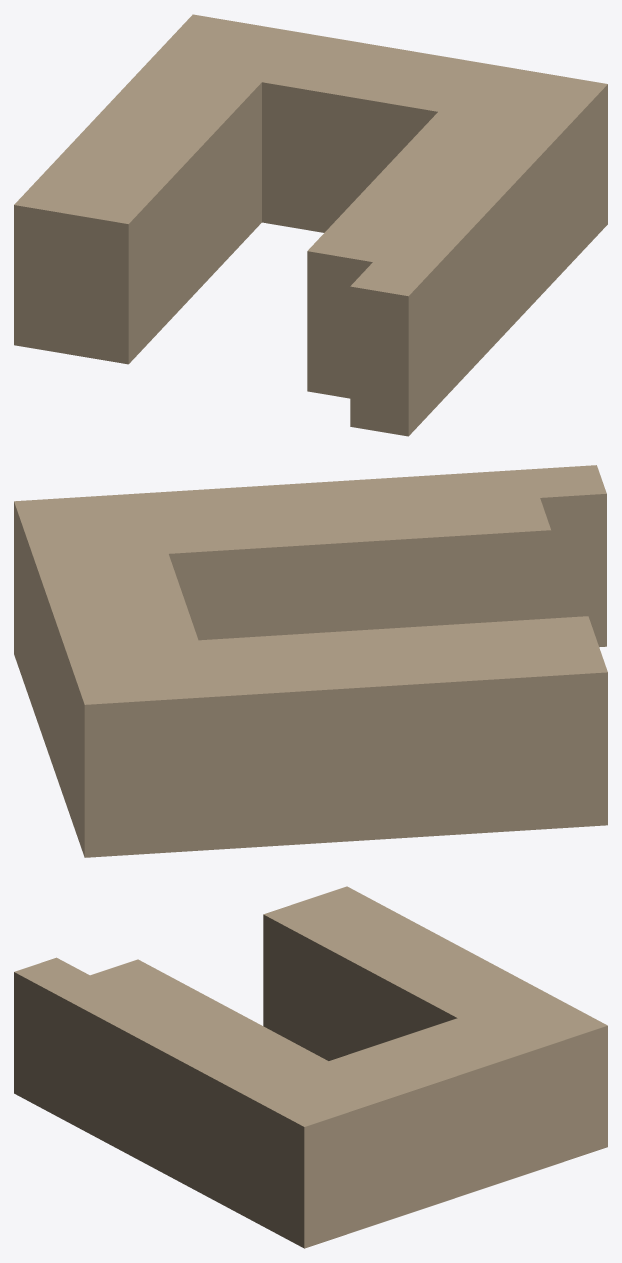
File: bld_108400879.dae
3 renders of one model, top to bottom at view 1: azimuth 30°, elevation 25°; view 2: azimuth 150°, elevation 25°; view 3: azimuth 270°, elevation 25°, orthographic. The views are drawn at different scales.
Parts seen in each view (by area): view 1: bld_108400879; view 2: bld_108400879; view 3: bld_108400879.
Part boxes in pixels (bbox=[...]): bld_108400879: bbox=[14, 14, 607, 436]; bld_108400879: bbox=[14, 465, 607, 857]; bld_108400879: bbox=[14, 886, 607, 1248].
Size of the model in its own units: 33.98 by 35.43 by 8.
